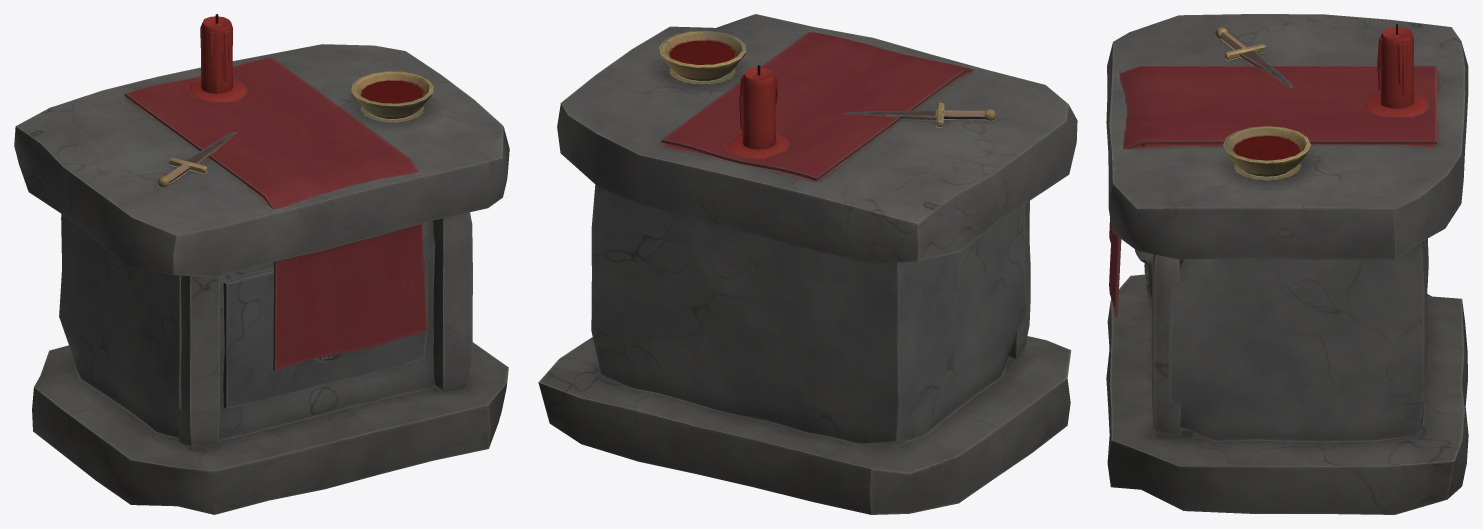
The model's file is altar.glb.
3 views of the same model, side by side, from view 1: azimuth 30°, elevation 25°; view 2: azimuth 150°, elevation 25°; view 3: azimuth 270°, elevation 25° (orthographic). The views are drawn at different scales.
Visible parts, largest first — view 1: altar; view 2: altar; view 3: altar.
Boxes of the visible parts, box(x1,y1,x2,y2) form: altar: box(14, 14, 509, 514); altar: box(538, 14, 1077, 514); altar: box(1106, 14, 1468, 514).
Bounding box in the file's own units: 0.9428 × 0.872 × 0.725.
1 material, 1 textured.
